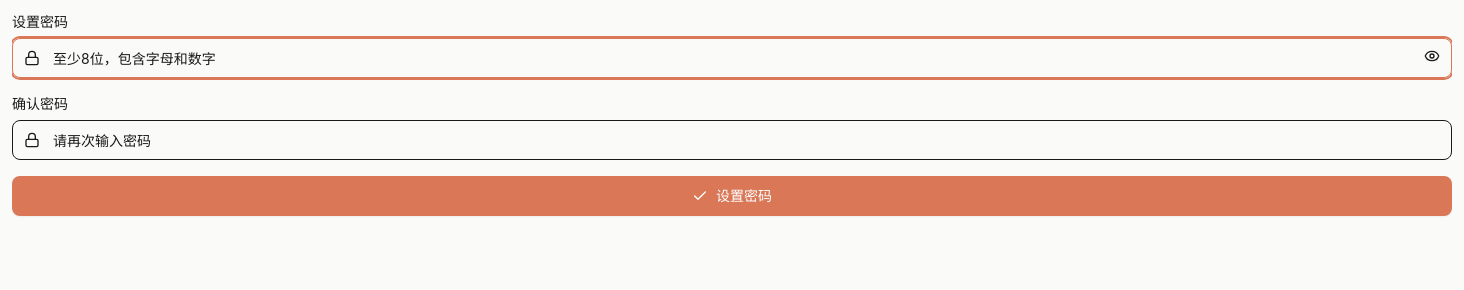
Test: SetPasswordForm 组件 › 确认密码为空 - 显示错误
Type "abcd1234" into the password field with placeholder "至少8位，包含字母和数字". click: (732, 58)
box: 12,38 -> 1452,78
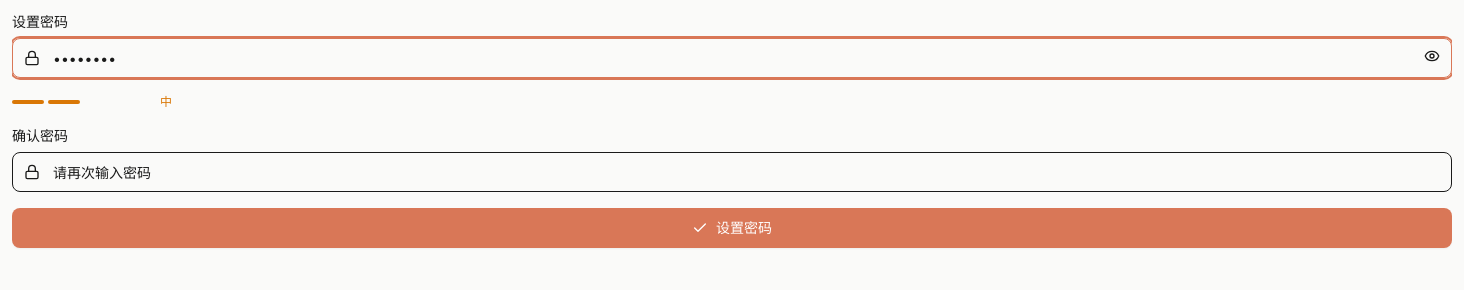
Click the button "设置密码". click: (732, 228)
box: 12,208 -> 1452,248
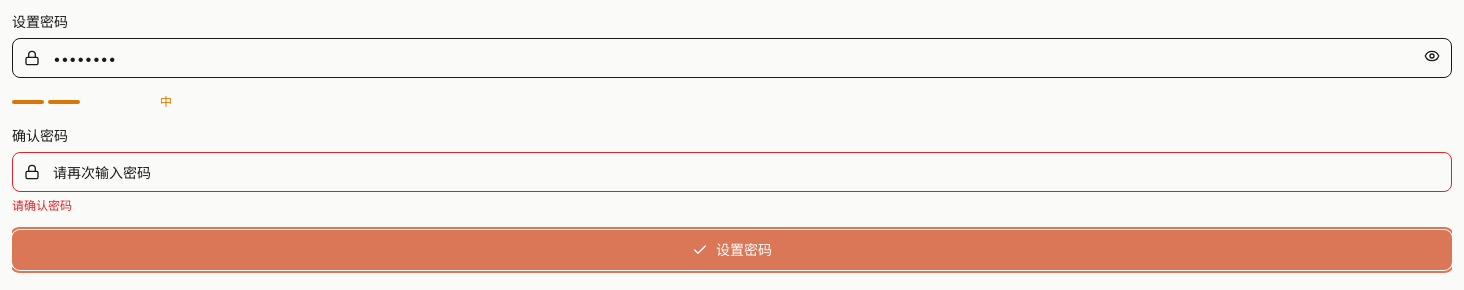
Result: the text "请确认密码" is shown at 12,198 -> 72,213
